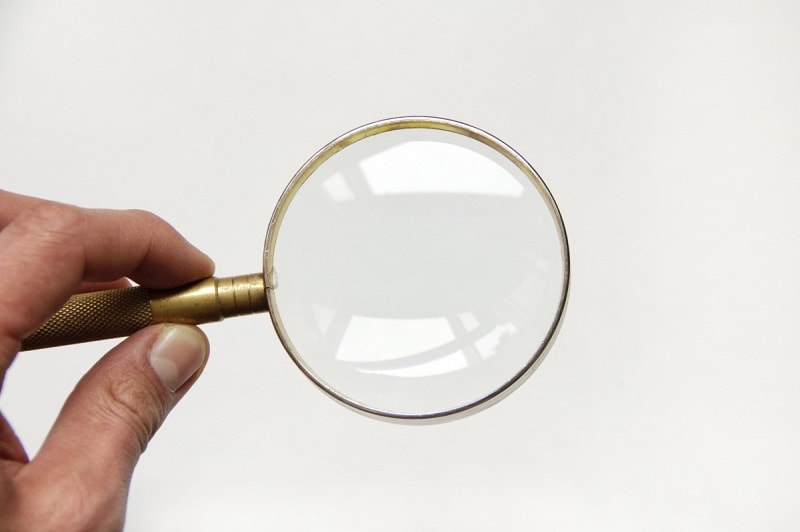magnifying-glass: (248, 110, 576, 423)
